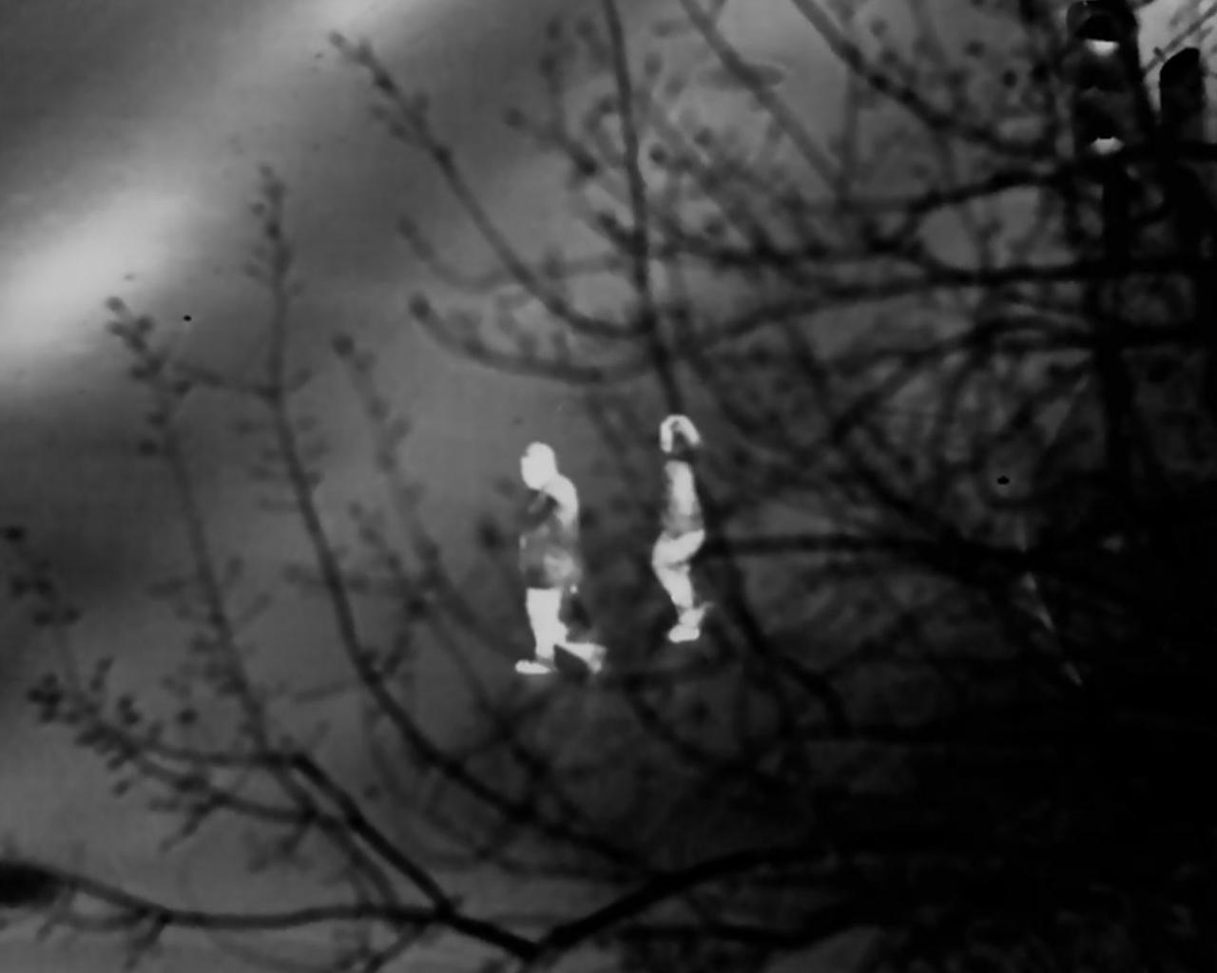person: (502, 447, 596, 686), (647, 411, 724, 642)
